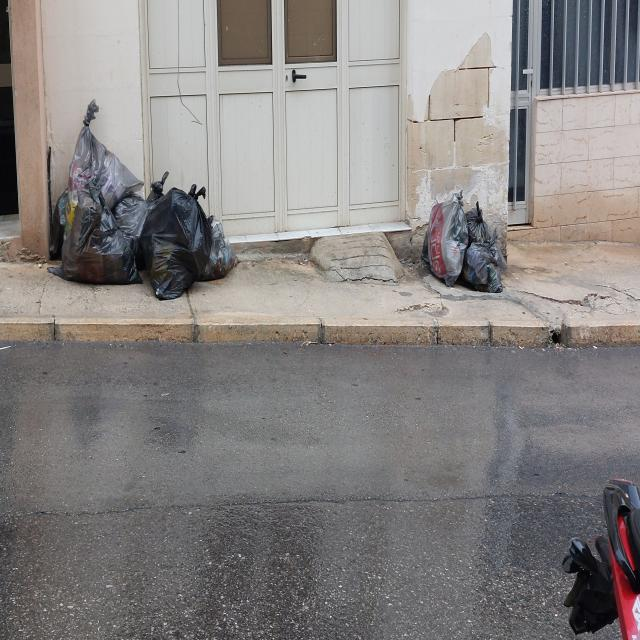Mixed Waste -Black Bag-: (51, 183, 145, 287), (142, 180, 214, 304), (69, 101, 143, 214), (421, 188, 468, 290), (463, 203, 506, 296), (204, 216, 244, 282), (466, 241, 502, 299), (116, 192, 150, 243), (51, 188, 71, 259), (147, 171, 170, 207)
